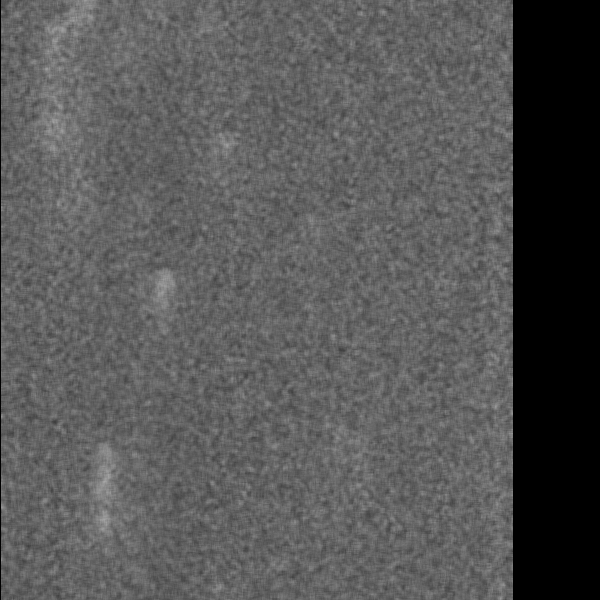spark: (150, 260, 172, 355), (88, 505, 123, 534), (63, 1, 83, 44), (31, 21, 71, 40), (93, 453, 109, 500)
